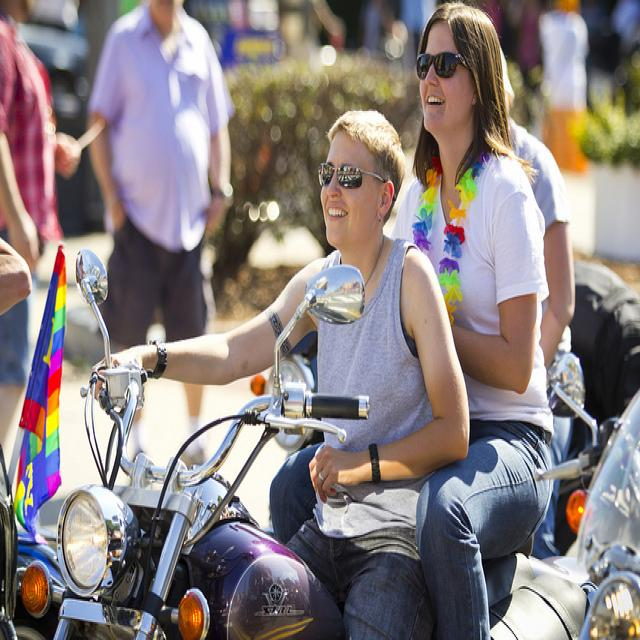motor: (51, 241, 371, 630), (502, 388, 640, 628)
